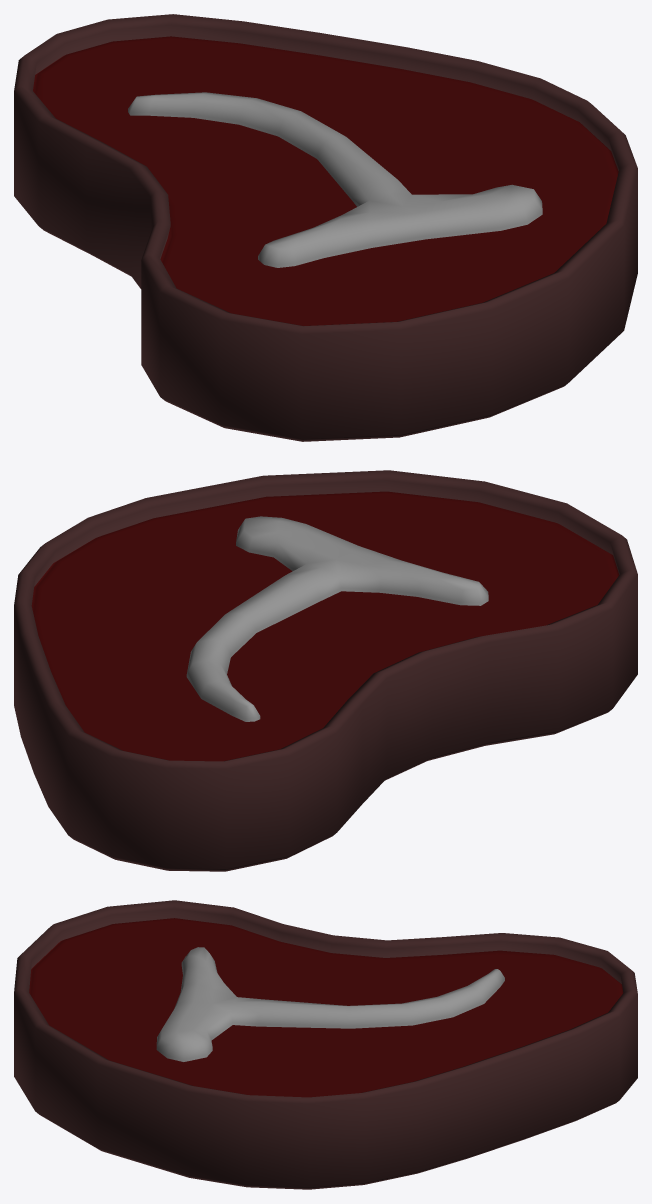
Rendered from Steak.FBX.
3 renders of one model, top to bottom at view 1: azimuth 30°, elevation 25°; view 2: azimuth 150°, elevation 25°; view 3: azimuth 270°, elevation 25°, orthographic. The views are drawn at different scales.
Visible parts, largest first — view 1: Steak; view 2: Steak; view 3: Steak.
Boxes of the visible parts, left/top/right/bottom form: Steak: left=14, top=14, right=637, bottom=441; Steak: left=14, top=470, right=637, bottom=871; Steak: left=14, top=900, right=637, bottom=1189.
Bounding box in the file's own units: 801 × 1050 × 179.
